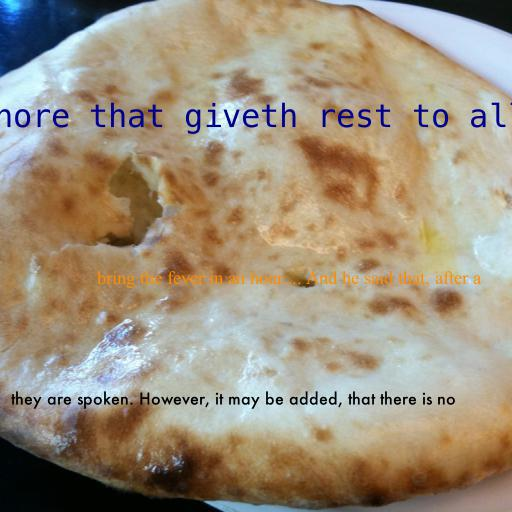Futura: (10, 391, 456, 409)
Menlo: (0, 102, 512, 134)
Times New Roman: (97, 271, 481, 288)
